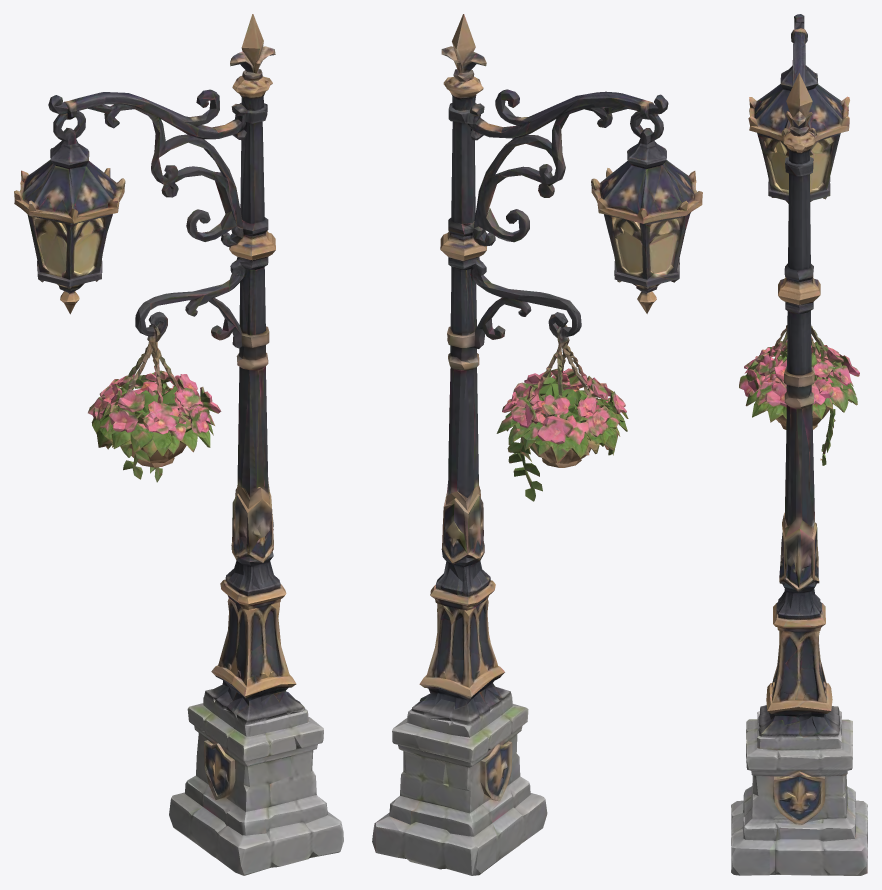
File: town_lamp.glb
The picture shows the model from 3 angles, left to right: view 1: azimuth 30°, elevation 25°; view 2: azimuth 150°, elevation 25°; view 3: azimuth 270°, elevation 25°; orthographic projection. The views are drawn at different scales.
Visible parts, largest first — view 1: output_unwrapped; view 2: output_unwrapped; view 3: output_unwrapped.
Part boxes in pixels (box(x1,y1,x2,y2)): output_unwrapped: box(14, 14, 343, 875); output_unwrapped: box(372, 14, 702, 875); output_unwrapped: box(731, 14, 867, 875).
Bounding box in the file's own units: 0.6928 × 1.9 × 0.3027.
Materials: 1 (1 with a texture image).
